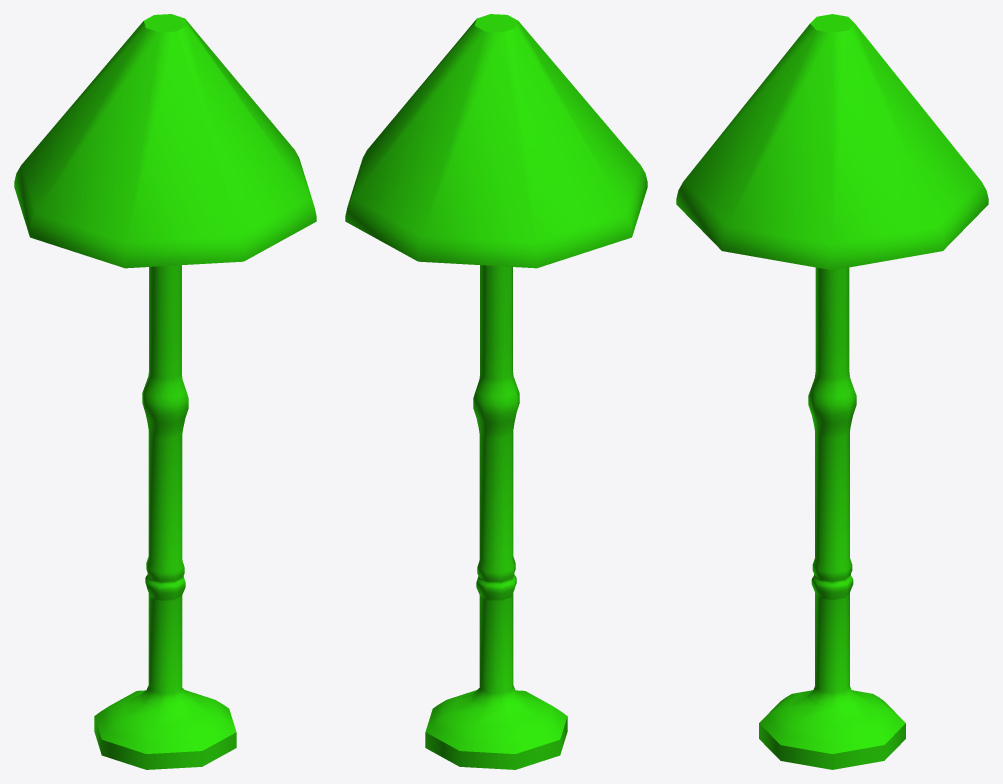
The model's file is lamp tall 1.fbx.
The picture shows the model from 3 angles, left to right: view 1: azimuth 30°, elevation 25°; view 2: azimuth 150°, elevation 25°; view 3: azimuth 270°, elevation 25°; orthographic projection.
Parts seen in each view (by area): view 1: Cylinder.002; view 2: Cylinder.002; view 3: Cylinder.002.
Boxes of the visible parts, left/top/right/bottom form: Cylinder.002: left=14, top=14, right=316, bottom=769; Cylinder.002: left=345, top=14, right=647, bottom=769; Cylinder.002: left=676, top=14, right=988, bottom=769.
Size of the model in its own units: 0.5937 by 1.5 by 0.5937.
